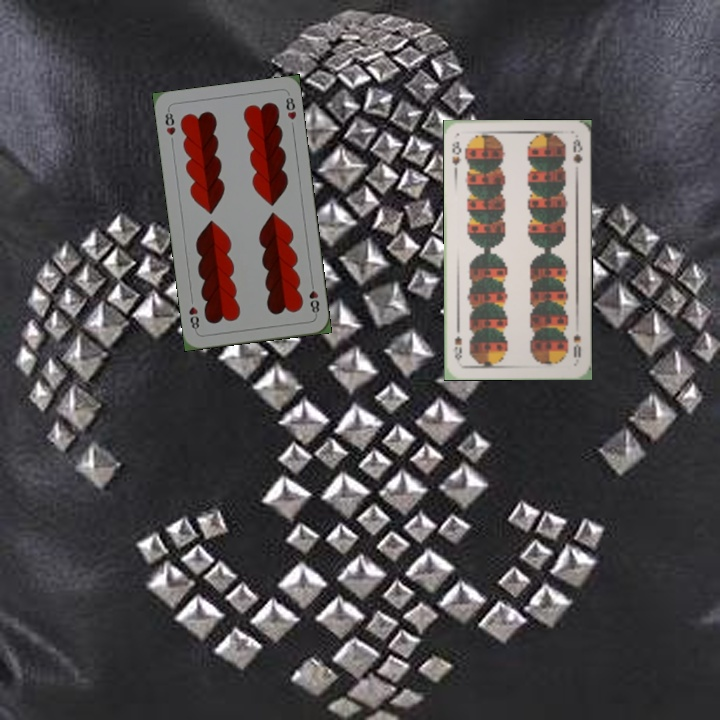H8: (305, 278, 322, 318), (161, 106, 178, 138)
S8: (448, 137, 464, 175), (570, 330, 583, 360)
